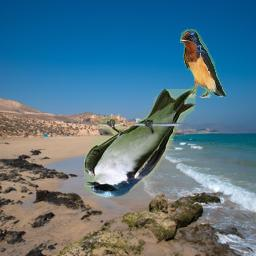Swallow: (84, 90, 196, 199), (180, 30, 226, 99)
